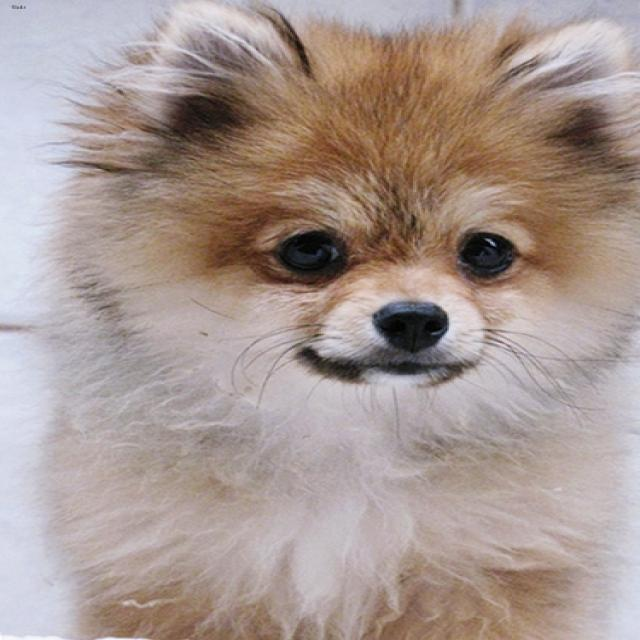dog-pomeranian: (12, 1, 637, 637)
